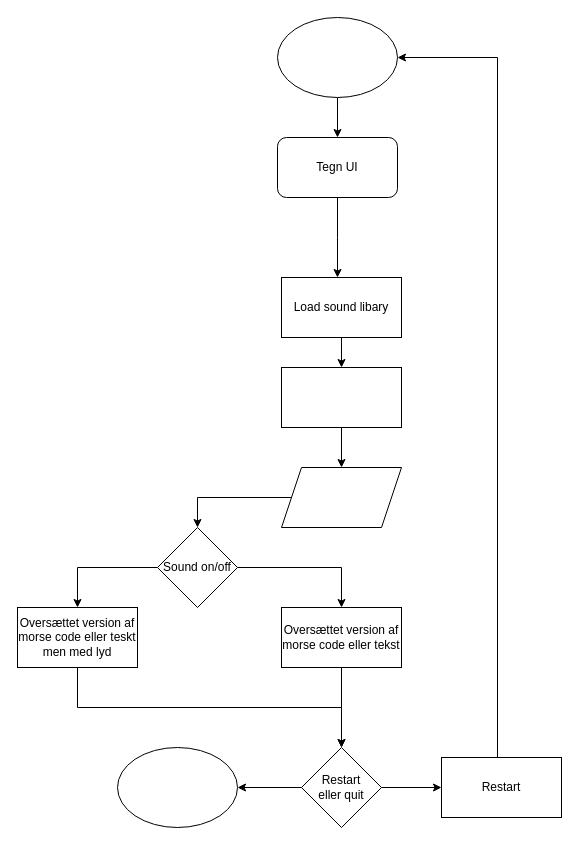
This 579x845 diagram has some shape labels left out. The centre of each missing label's shape, as x and y in pixels:
Load Morse Code Libary: (x=341, y=397)
QUIT: (x=177, y=787)
Skriv din morse code eller tekst til oversæt: (x=341, y=497)
Start: (x=337, y=57)
